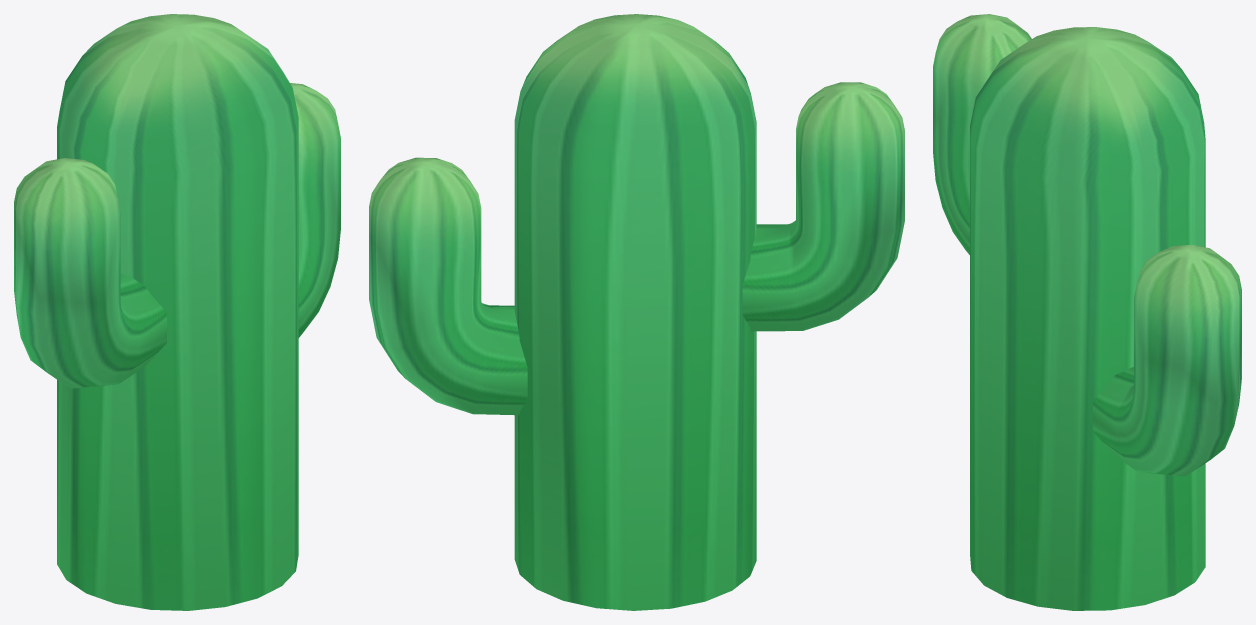
File: cactus1.glb
3 views of the same model, side by side, from view 1: azimuth 30°, elevation 25°; view 2: azimuth 150°, elevation 25°; view 3: azimuth 270°, elevation 25° (orthographic). The views are drawn at different scales.
Parts seen in each view (by area): view 1: Mesh_31_cactus_0; view 2: Mesh_31_cactus_0; view 3: Mesh_31_cactus_0.
Boxes of the visible parts, x1,y1,x2,y2 form: Mesh_31_cactus_0: [14, 14, 340, 610]; Mesh_31_cactus_0: [369, 14, 904, 610]; Mesh_31_cactus_0: [933, 14, 1241, 610].
Size of the model in its own units: 1.74 by 2.13 by 1.14.
1 material, 1 textured.
